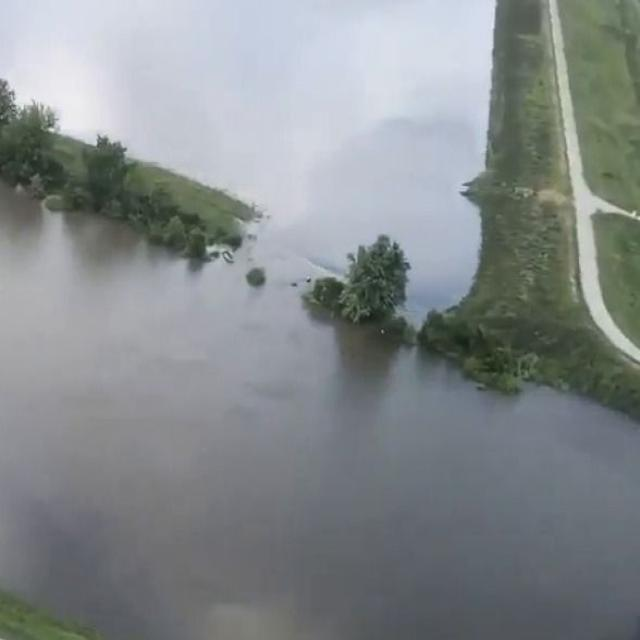flooded_areas: (1, 0, 552, 639)
